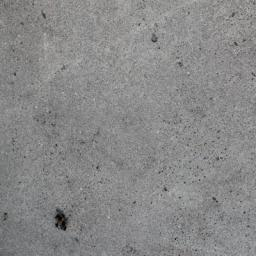FOD: (53, 206, 72, 236)
